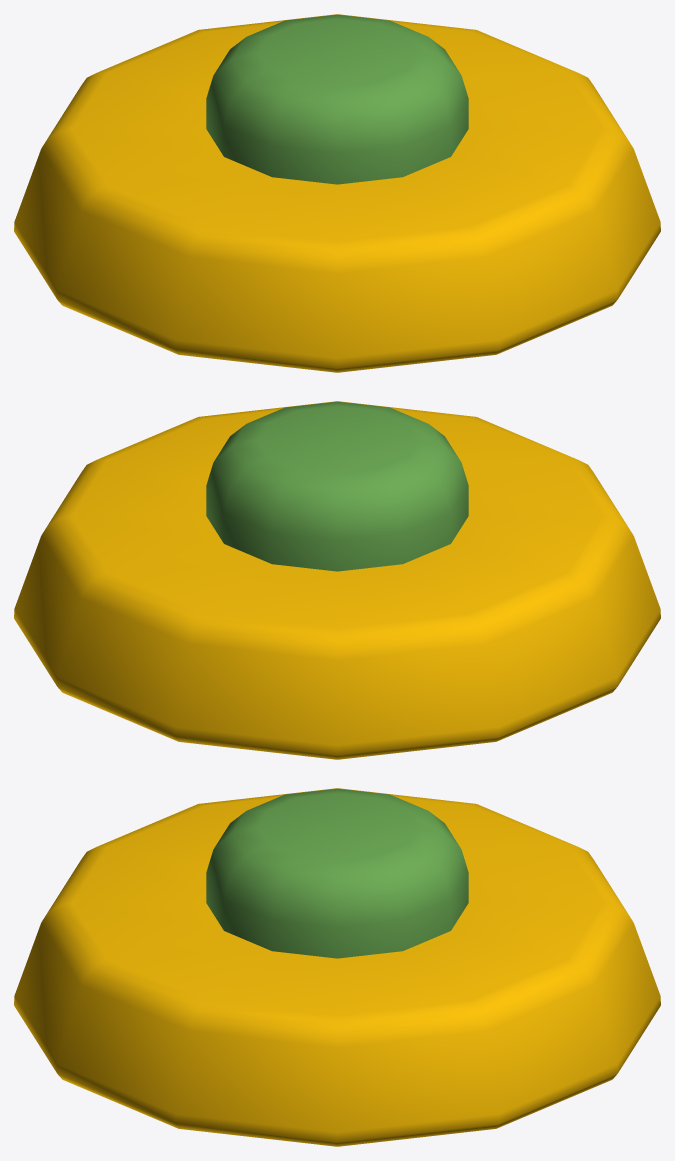
The model's file is Button_2.fbx.
3 renders of one model, top to bottom at view 1: azimuth 30°, elevation 25°; view 2: azimuth 150°, elevation 25°; view 3: azimuth 270°, elevation 25°, orthographic.
Parts seen in each view (by area): view 1: Button_2; view 2: Button_2; view 3: Button_2.
Boxes of the visible parts, x1,y1,x2,y2 form: Button_2: [14, 14, 660, 372]; Button_2: [14, 401, 660, 759]; Button_2: [14, 788, 660, 1146].
Bounding box in the file's own units: 0.1793 × 0.0575 × 0.1793.
